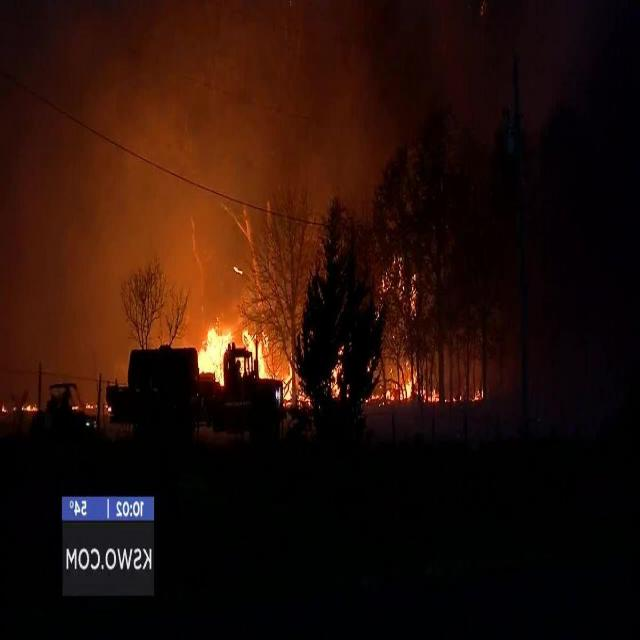fire: (196, 325, 238, 383)
